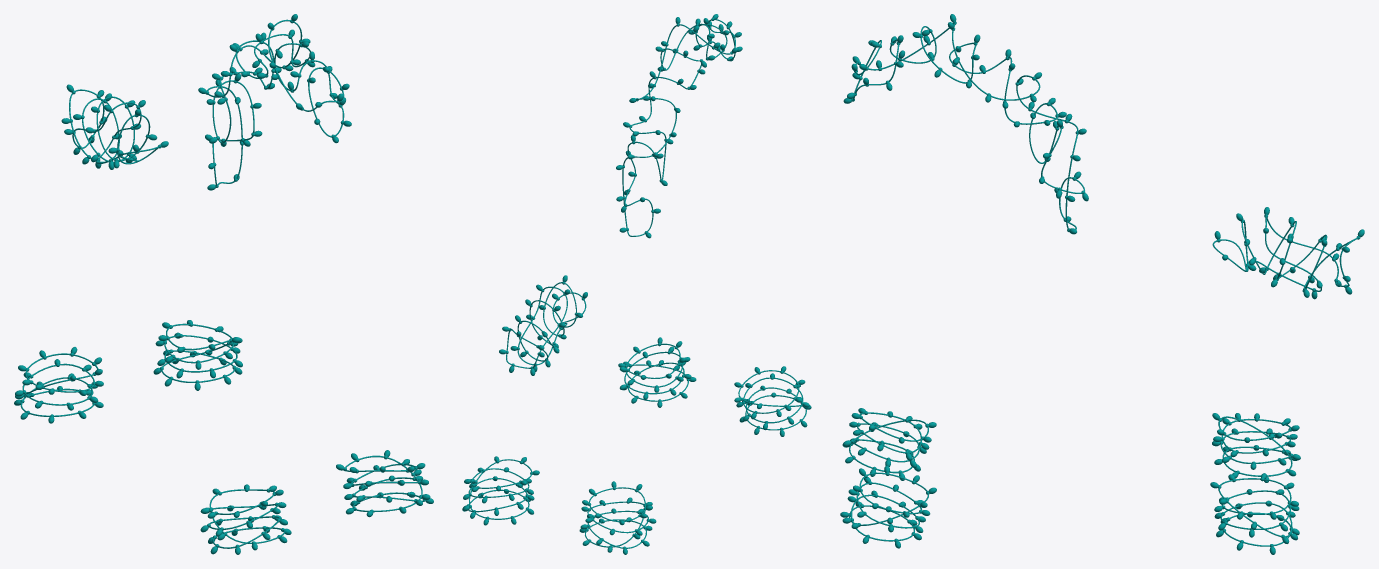
Rendered from SM_horse_light_hair.fbx.
3 views of the same model, side by side, from view 1: azimuth 30°, elevation 25°; view 2: azimuth 150°, elevation 25°; view 3: azimuth 270°, elevation 25° (orthographic). The views are drawn at different scales.
Parts seen in each view (by area): view 1: SM_horse_light_hair, SM_horse_light_leg_RB, SM_horse_light_leg_LB, SM_horse_light_leg_LF, SM_horse_light_leg_RF; view 2: SM_horse_light_hair, SM_horse_light_leg_LB, SM_horse_light_leg_LF, SM_horse_light_leg_RF, SM_horse_light_leg_RB; view 3: SM_horse_light_hair, SM_horse_light_leg_RF, SM_horse_light_leg_RB, SM_horse_light_leg_LB, SM_horse_light_leg_LF.
Part boxes in pixels (x1,y1,x2,y2): SM_horse_light_hair: (61, 14, 351, 190); SM_horse_light_leg_RB: (153, 320, 242, 390); SM_horse_light_leg_LB: (14, 347, 103, 423); SM_horse_light_leg_LF: (200, 484, 291, 554); SM_horse_light_leg_RF: (336, 450, 433, 517); SM_horse_light_hair: (499, 14, 742, 375); SM_horse_light_leg_LB: (579, 481, 656, 554); SM_horse_light_leg_LF: (734, 366, 811, 436); SM_horse_light_leg_RF: (618, 337, 696, 407); SM_horse_light_leg_RB: (462, 456, 539, 525); SM_horse_light_hair: (843, 14, 1364, 299); SM_horse_light_leg_RF: (840, 465, 936, 548); SM_horse_light_leg_RB: (1210, 473, 1299, 554); SM_horse_light_leg_LB: (1212, 413, 1300, 482); SM_horse_light_leg_LF: (842, 408, 936, 480).
Bounding box in the file's own units: 84.29 × 182 × 177.
